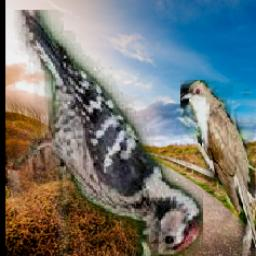Cuckoo: (181, 81, 256, 256)
Woodpecker: (9, 11, 204, 256)
